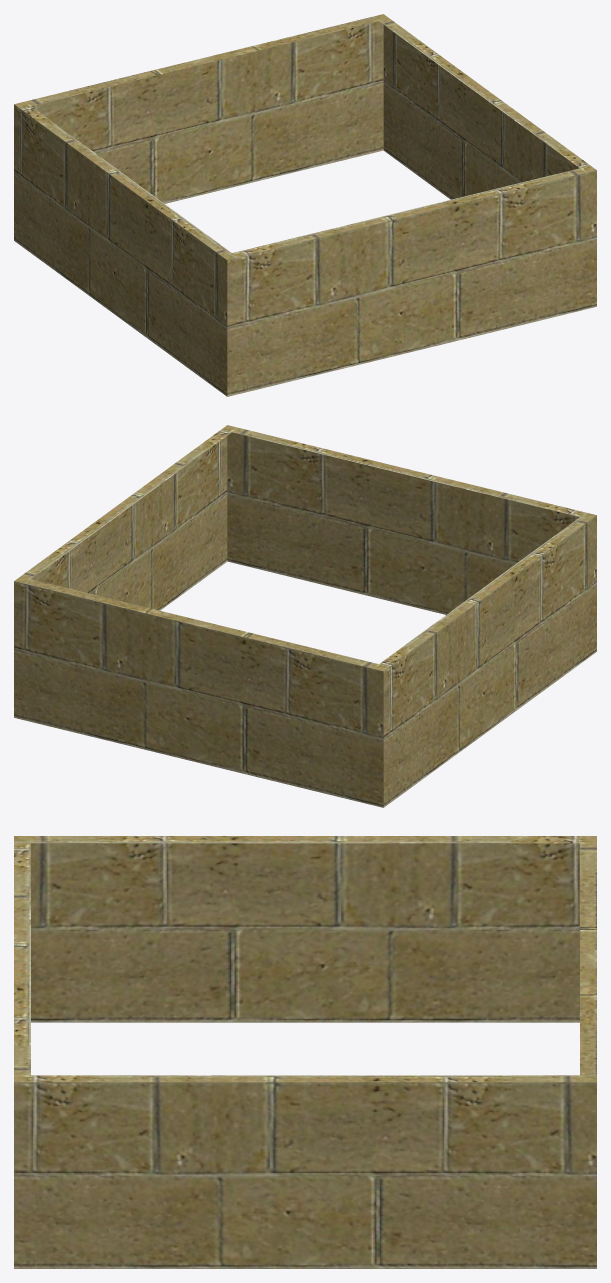
The model's file is zdWallCenterColumnCurb.fbx.
3 views of the same model, one above another, from view 1: azimuth 30°, elevation 25°; view 2: azimuth 150°, elevation 25°; view 3: azimuth 270°, elevation 25° (orthographic). The views are drawn at different scales.
Parts seen in each view (by area): view 1: SketchUp; view 2: SketchUp; view 3: SketchUp.
Boxes of the visible parts, x1=… form: SketchUp: x1=14, y1=14, x2=596, y2=396; SketchUp: x1=14, y1=425, x2=596, y2=807; SketchUp: x1=14, y1=836, x2=596, y2=1268.
Size of the model in its own units: 0.8636 by 0.3048 by 0.8636.
